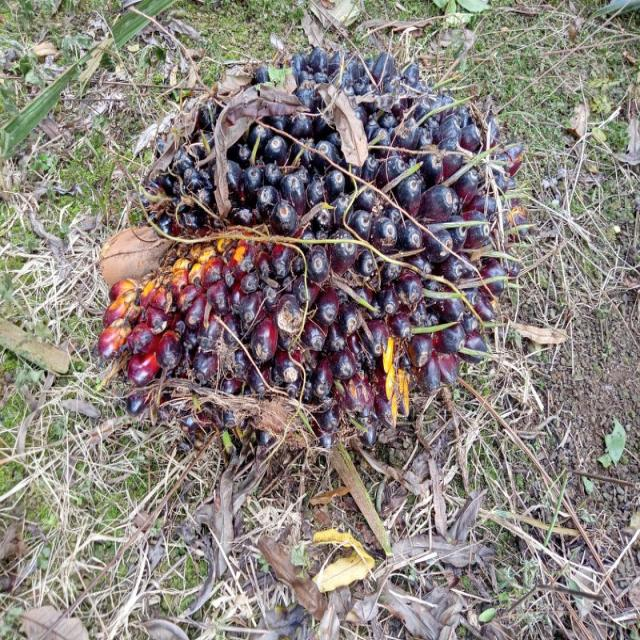fraksi 00: (102, 51, 504, 435)
